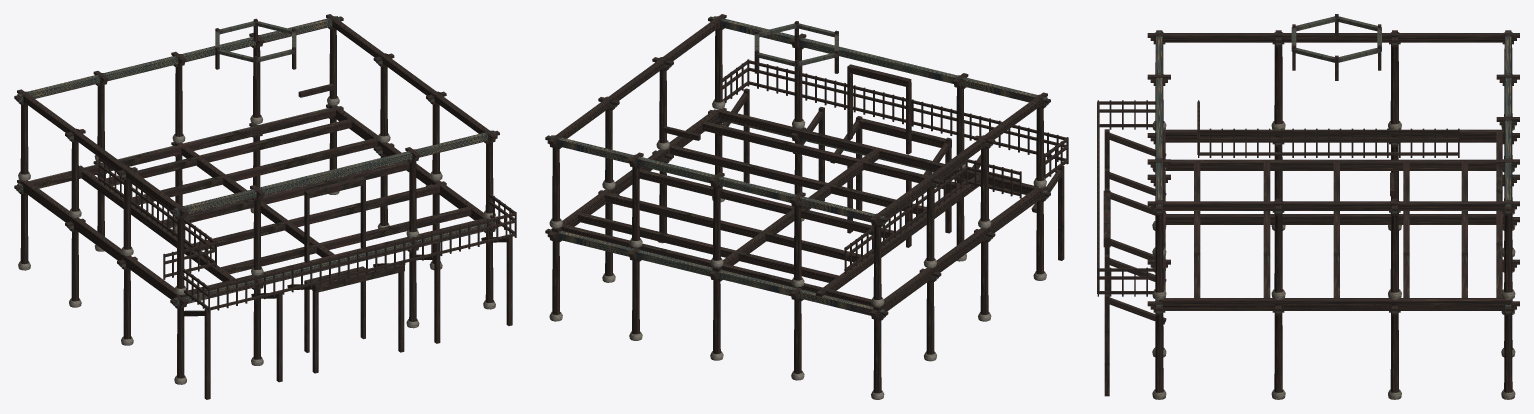
Rendered from tea_frame.glb.
3 renders of one model, left to right at view 1: azimuth 30°, elevation 25°; view 2: azimuth 150°, elevation 25°; view 3: azimuth 270°, elevation 25°, orthographic. The views are drawn at different scales.
Visible parts, largest first — view 1: tea_frame0; view 2: tea_frame0; view 3: tea_frame0.
Part boxes in pixels (x1,y1,x2,y2): tea_frame0: (14,14,516,399); tea_frame0: (545,14,1068,399); tea_frame0: (1097,14,1519,399).
Size of the model in its own units: 14.5 by 10.53 by 14.55.
Materials: 1 (1 with a texture image).
